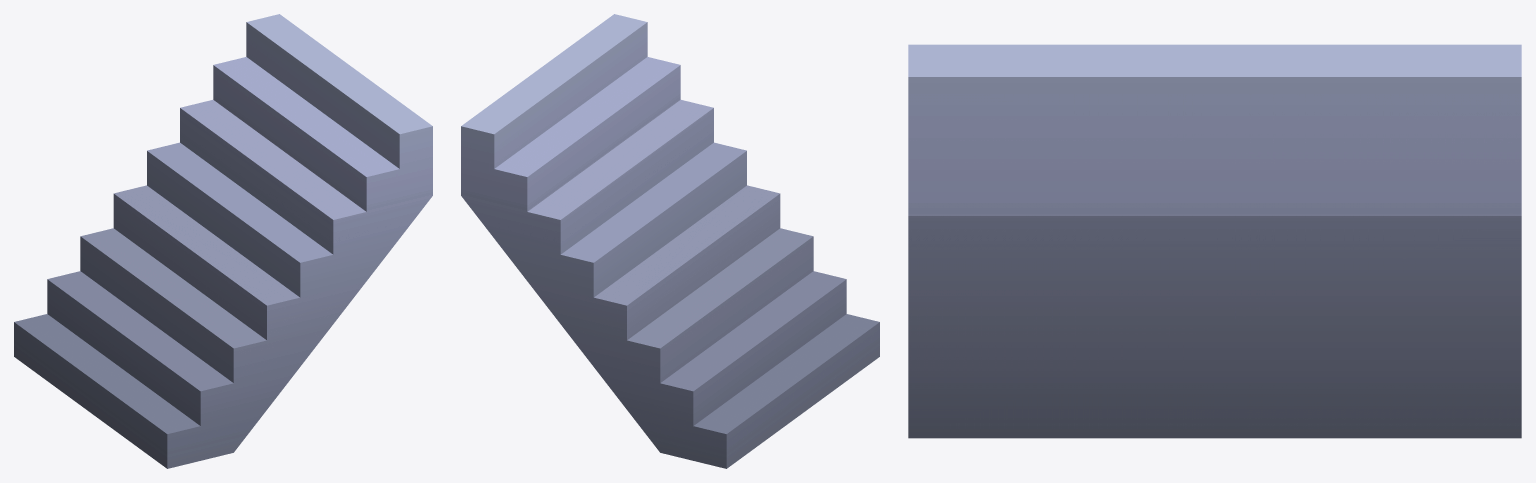
The model's file is stairs-diagonal-small.glb.
3 views of the same model, side by side, from view 1: azimuth 30°, elevation 25°; view 2: azimuth 150°, elevation 25°; view 3: azimuth 270°, elevation 25° (orthographic). The views are drawn at different scales.
Parts seen in each view (by area): view 1: stairs-diagonal-small; view 2: stairs-diagonal-small; view 3: stairs-diagonal-small.
Boxes of the visible parts, left/top/right/bottom form: stairs-diagonal-small: left=14, top=14, right=432, bottom=468; stairs-diagonal-small: left=461, top=14, right=879, bottom=468; stairs-diagonal-small: left=908, top=44, right=1521, bottom=438.
Size of the model in its own units: 1 by 1 by 1.
Materials: 1 (1 with a texture image).
